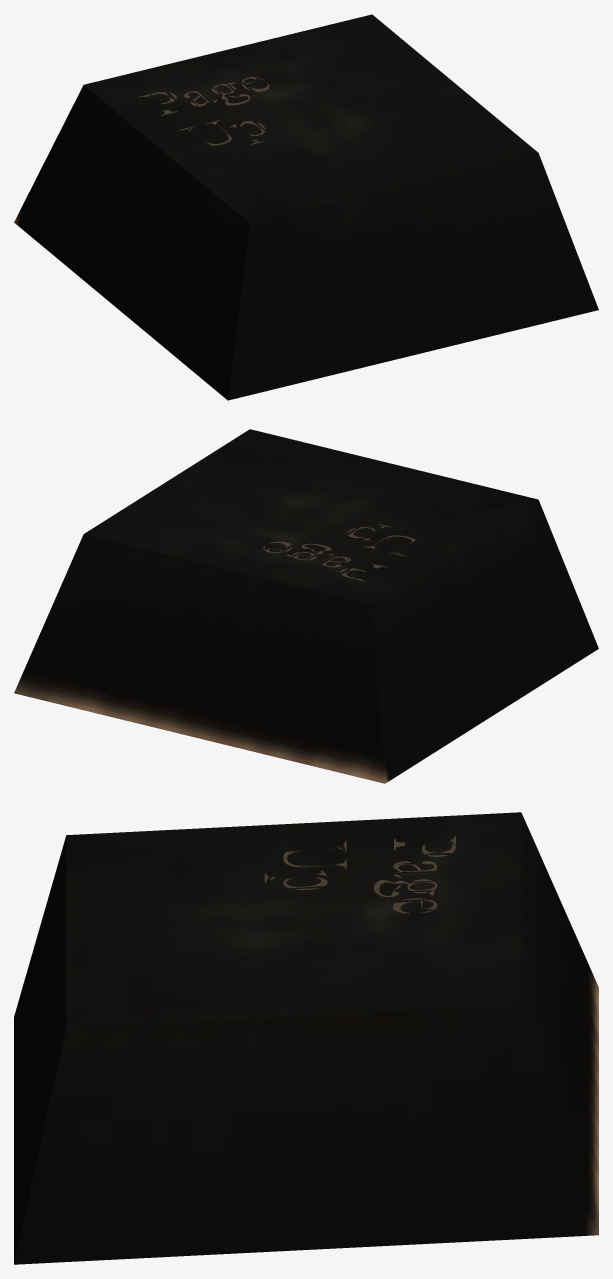
File: link_22__key-28.glb
3 views of the same model, one above another, from view 1: azimuth 30°, elevation 25°; view 2: azimuth 150°, elevation 25°; view 3: azimuth 270°, elevation 25° (orthographic). The views are drawn at different scales.
Visible parts, largest first — view 1: geometry_0; view 2: geometry_0; view 3: geometry_0.
Part boxes in pixels (bbox=[...]): geometry_0: bbox=[14, 14, 598, 400]; geometry_0: bbox=[14, 429, 598, 783]; geometry_0: bbox=[14, 812, 598, 1264].
Size of the model in its own units: 0.0719 by 0.0315 by 0.0718.
Materials: 1 (1 with a texture image).
